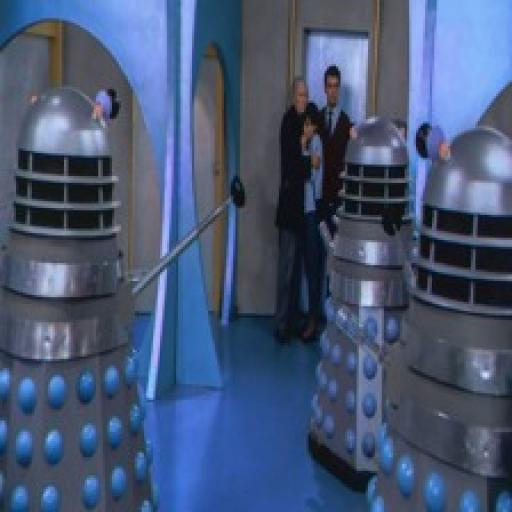dalek: (1, 79, 261, 512), (356, 114, 512, 512), (298, 102, 421, 493)
